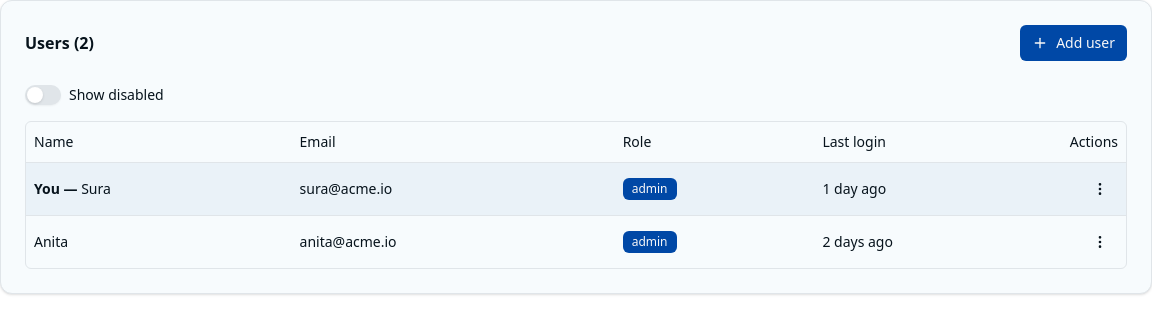
UsersPage — last-admin + self grey-out (D-26) › hides Sign out everywhere and Disable on the self row
Expected: the text "Users (2)" is shown, [25,35,94,51]
Click the button named "Actions for Sura".
click(1100, 188)  # box [1082,170,1118,206]
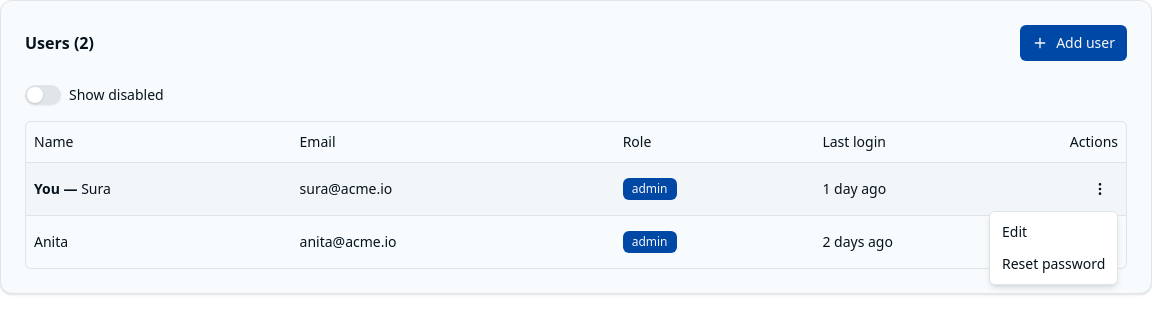
Expected: the menu item "Edit" is shown, [1002,222,1027,241]
Expected: the menu item "Reset password" is shown, [1002,254,1105,273]
